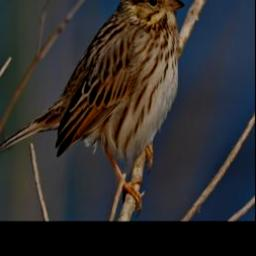Sparrow: (0, 0, 185, 219)
